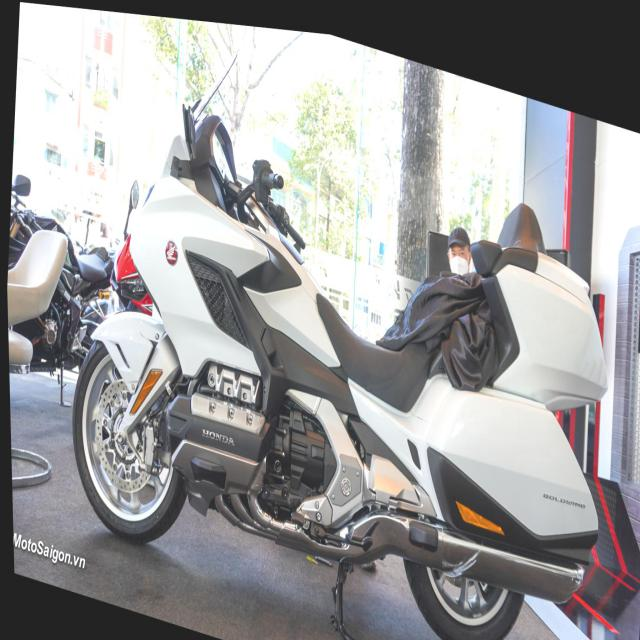Gold Wing: (54, 58, 622, 640)
